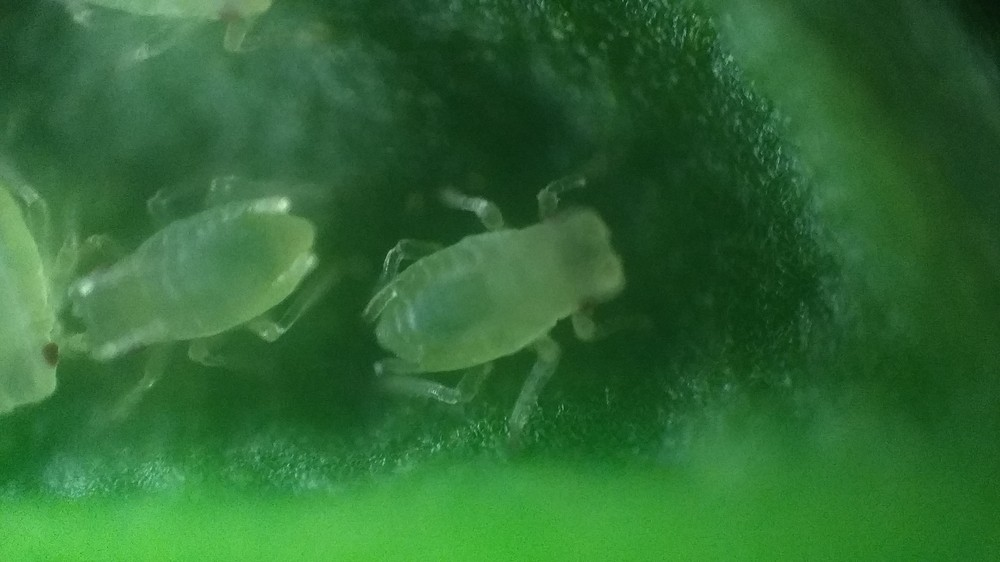Pulgon: (358, 156, 677, 446), (63, 167, 360, 405), (1, 135, 75, 431)
